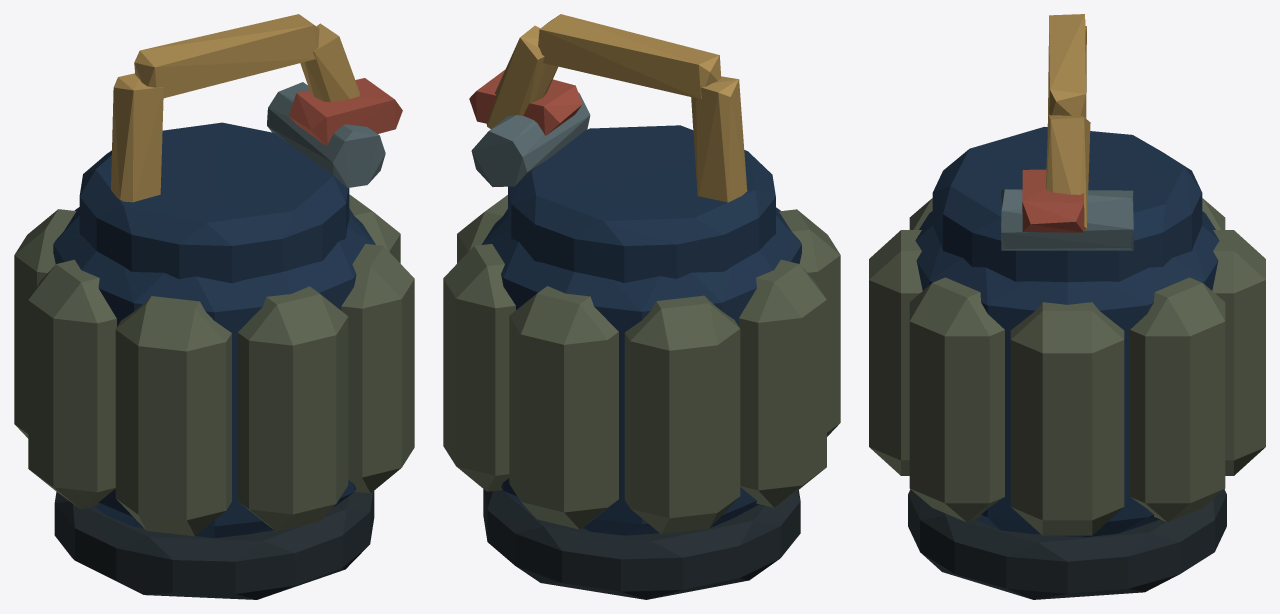
File: FERNSTONE_GRENADE.lo.glb
3 renders of one model, left to right at view 1: azimuth 30°, elevation 25°; view 2: azimuth 150°, elevation 25°; view 3: azimuth 270°, elevation 25°, orthographic.
Parts seen in each view (by area): view 1: Body_Mesh; view 2: Body_Mesh; view 3: Body_Mesh.
Part boxes in pixels (x1,y1,x2,y2): Body_Mesh: (14, 14, 414, 599); Body_Mesh: (443, 14, 840, 599); Body_Mesh: (869, 14, 1265, 599).
Bounding box in the file's own units: 0.56 × 0.7684 × 0.56.
